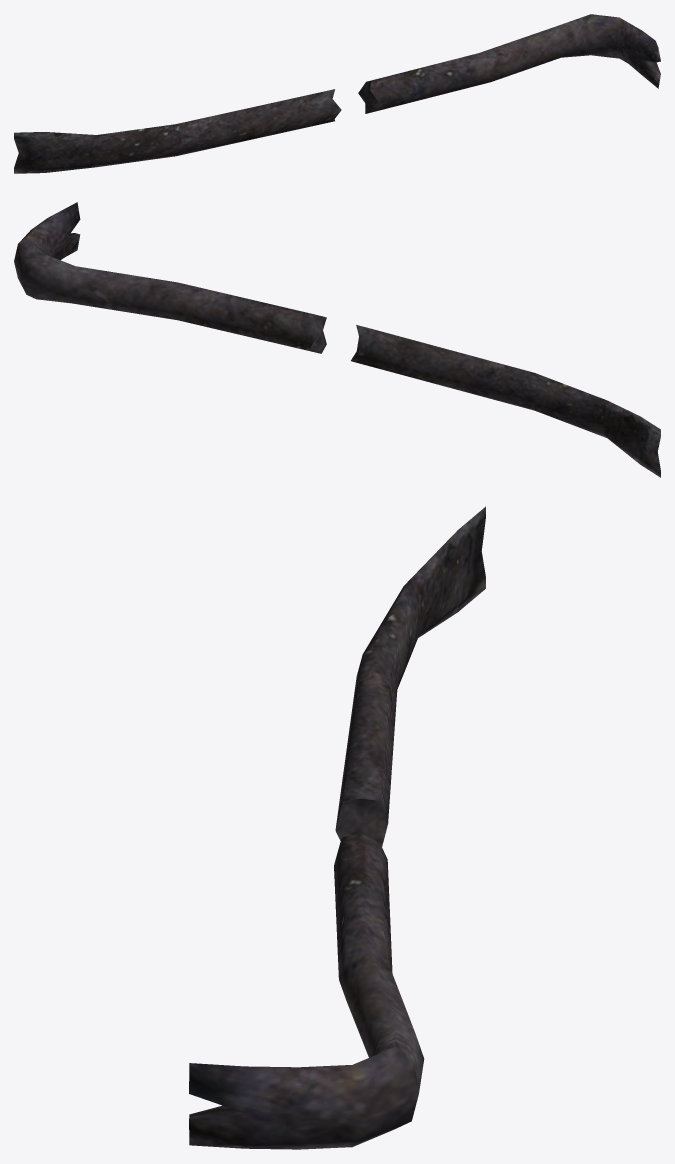
Rendered from crowbar_broken.dae.
3 views of the same model, one above another, from view 1: azimuth 30°, elevation 25°; view 2: azimuth 150°, elevation 25°; view 3: azimuth 270°, elevation 25° (orthographic). The views are drawn at different scales.
Parts seen in each view (by area): view 1: polySurface2, polySurface1; view 2: polySurface1, polySurface2; view 3: polySurface1, polySurface2.
Boxes of the visible parts, left/top/right/bottom form: polySurface2: left=14, top=89, right=341, bottom=173; polySurface1: left=358, top=14, right=660, bottom=113; polySurface1: left=14, top=202, right=326, bottom=353; polySurface2: left=351, top=325, right=660, bottom=477; polySurface1: left=189, top=833, right=424, bottom=1149; polySurface2: left=335, top=506, right=485, bottom=846.
Size of the model in its own units: 0.67 by 0.045 by 0.1472.
Materials: 1 (1 with a texture image).
